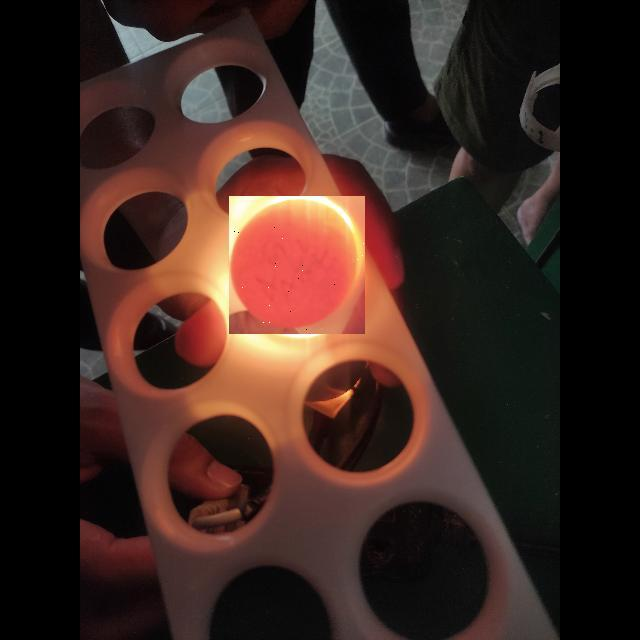A - Good: (229, 196, 365, 334)
